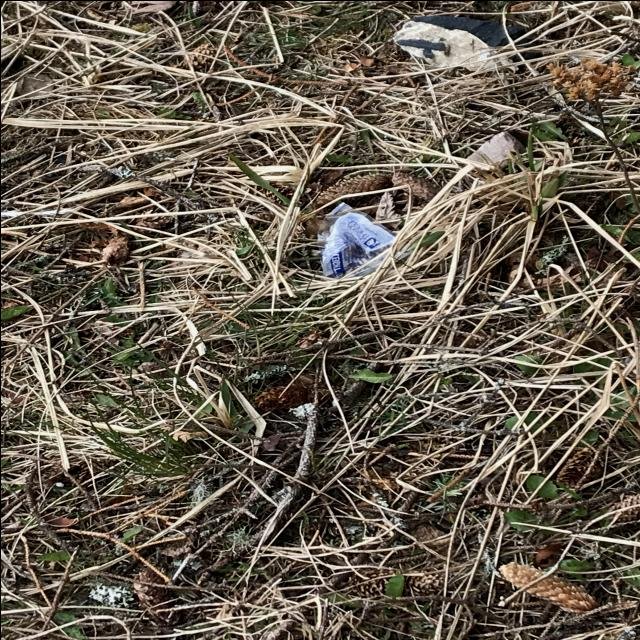Plastic film: (317, 201, 396, 277)
